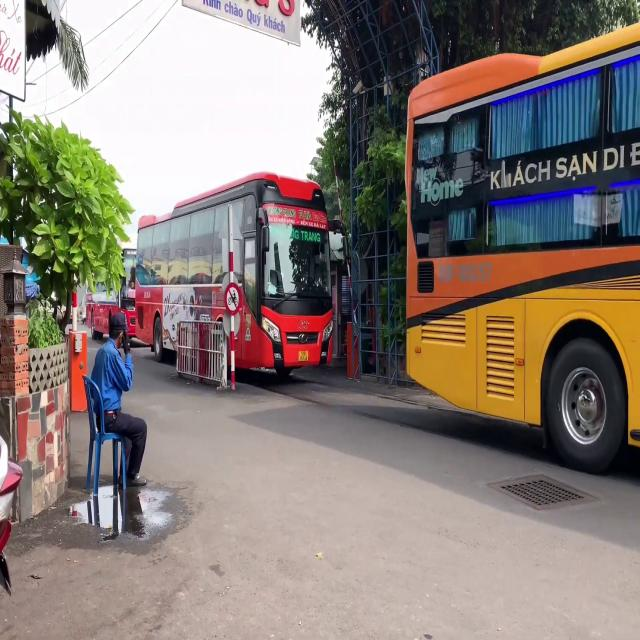bien_vang: (298, 349, 309, 363)
